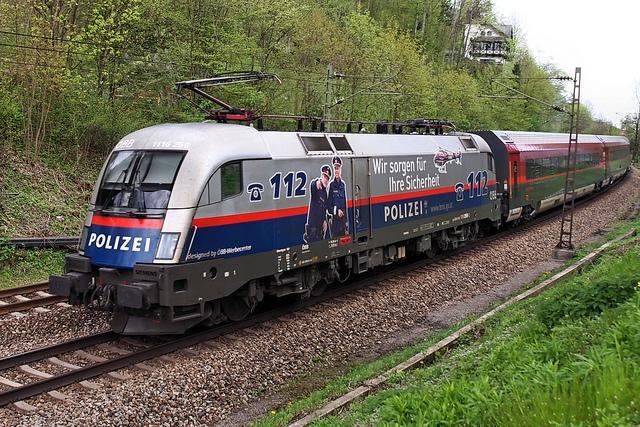Train: (43, 99, 634, 351)
